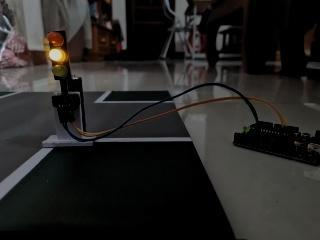yellow: (33, 21, 89, 89)
